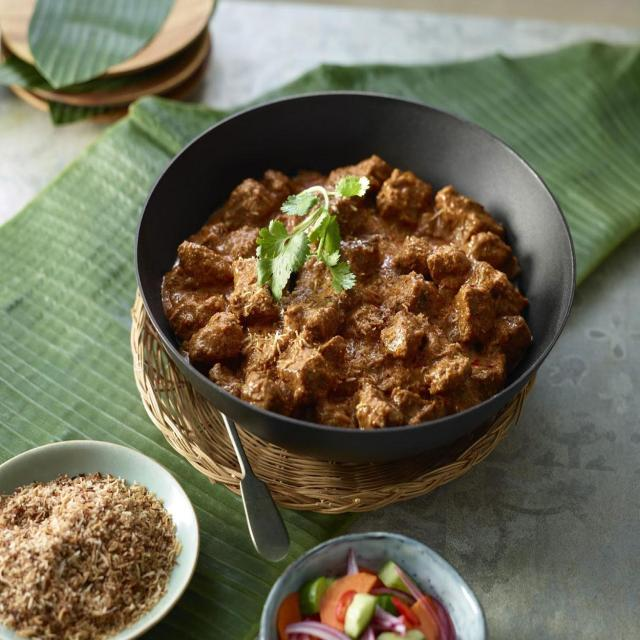Rendang: (147, 124, 549, 434)
